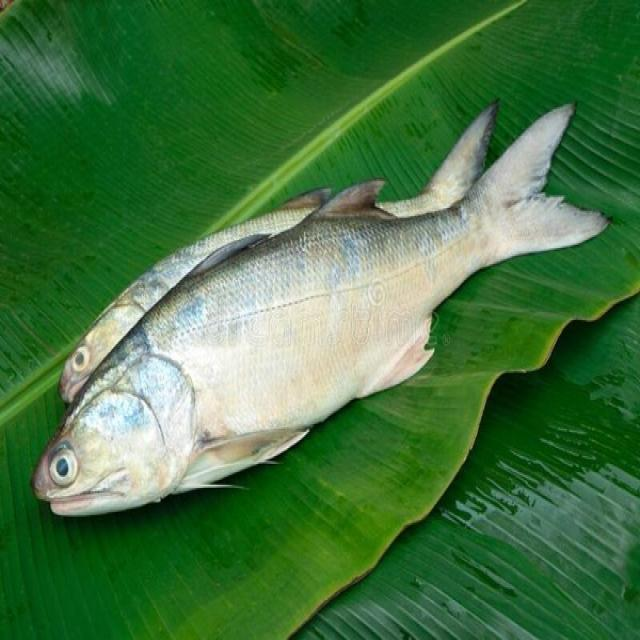Fourfinger-Threadfin: (24, 85, 590, 538)
